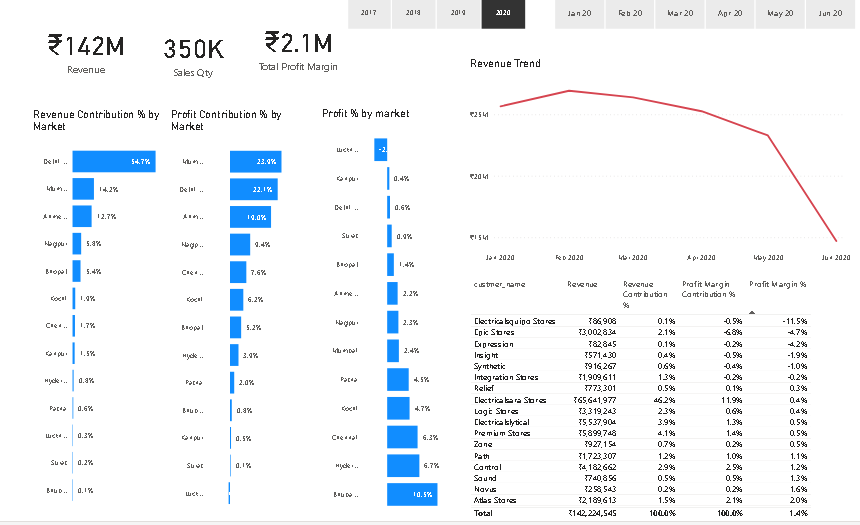

What the dashboard file says about the page in this screenshot:
{"tool":"powerbi","page":{"name":"Profit Analysis","canvas":[1350,850],"ordinal":1},"visuals":[{"type":"card","fields":{"Values":["BaseMeasures (2).Revenue"]},"box":[0,0,179.6,184.8],"z":0},{"type":"card","fields":{"Values":["BaseMeasures (2).Sales Qty"]},"box":[179.6,0,164.1,193],"z":1000},{"type":"barChart","title":"Profit % by market","fields":{"Y":["BaseMeasures (2).Profit Margin %"],"Category":["sales markets.markets_name"]},"box":[464.5,184.8,230.2,664.8],"z":2000},{"type":"barChart","title":"Profit Contribution % by Market","fields":{"Y":["BaseMeasures (2).Profit Margin Contribution %"],"Category":["sales markets.markets_name"]},"box":[221.9,185.8,208.5,659.6],"z":3000},{"type":"slicer","fields":{"Values":["sales date.year"]},"box":[483.2,0,335.5,66.5],"z":4000},{"type":"slicer","fields":{"Values":["sales date.cy_date"]},"box":[818.6,0,531.7,66.5],"z":5000},{"type":"tableEx","title":"Top 5 Customers","fields":{"Values":["sales customers.custmer_name","BaseMeasures (2).Revenue","BaseMeasures (2).Revenue Contribution %","BaseMeasures (2).Profit Margin Contribution %","BaseMeasures (2).Profit Margin %"]},"box":[701.9,454.2,648.2,395.4],"z":6000},{"type":"lineChart","title":"Revenue Trend","fields":{"Y":["BaseMeasures (2).Revenue"],"Category":["sales date.cy_date"]},"box":[701.9,104.2,621.4,338.6],"z":7000},{"type":"card","fields":{"Values":["BaseMeasures (2).Total Profit Margin"]},"box":[349.9,0,161,176.5],"z":8000},{"type":"barChart","title":"Revenue Contribution % by Market","fields":{"Y":["BaseMeasures (2).Revenue Contribution %"],"Category":["sales markets.markets_name"]},"box":[0,185.8,219.9,654.5],"z":9000}]}

Visuals, with their boxes on the page's 1350x850 design canvas (x1, y1, x2, y2). These are canvas units, not pixel positions in the 860x525 screenshot, which may show the page scaled, cropped or inside an application window:
card - BaseMeasures (2).Revenue: [left=0, top=0, right=180, bottom=185]
card - BaseMeasures (2).Sales Qty: [left=180, top=0, right=344, bottom=193]
"Profit % by market" barChart: [left=464, top=185, right=695, bottom=850]
"Profit Contribution % by Market" barChart: [left=222, top=186, right=430, bottom=845]
slicer - sales date.year: [left=483, top=0, right=819, bottom=66]
slicer - sales date.cy_date: [left=819, top=0, right=1350, bottom=66]
"Top 5 Customers" tableEx: [left=702, top=454, right=1350, bottom=850]
"Revenue Trend" lineChart: [left=702, top=104, right=1323, bottom=443]
card - BaseMeasures (2).Total Profit Margin: [left=350, top=0, right=511, bottom=176]
"Revenue Contribution % by Market" barChart: [left=0, top=186, right=220, bottom=840]
